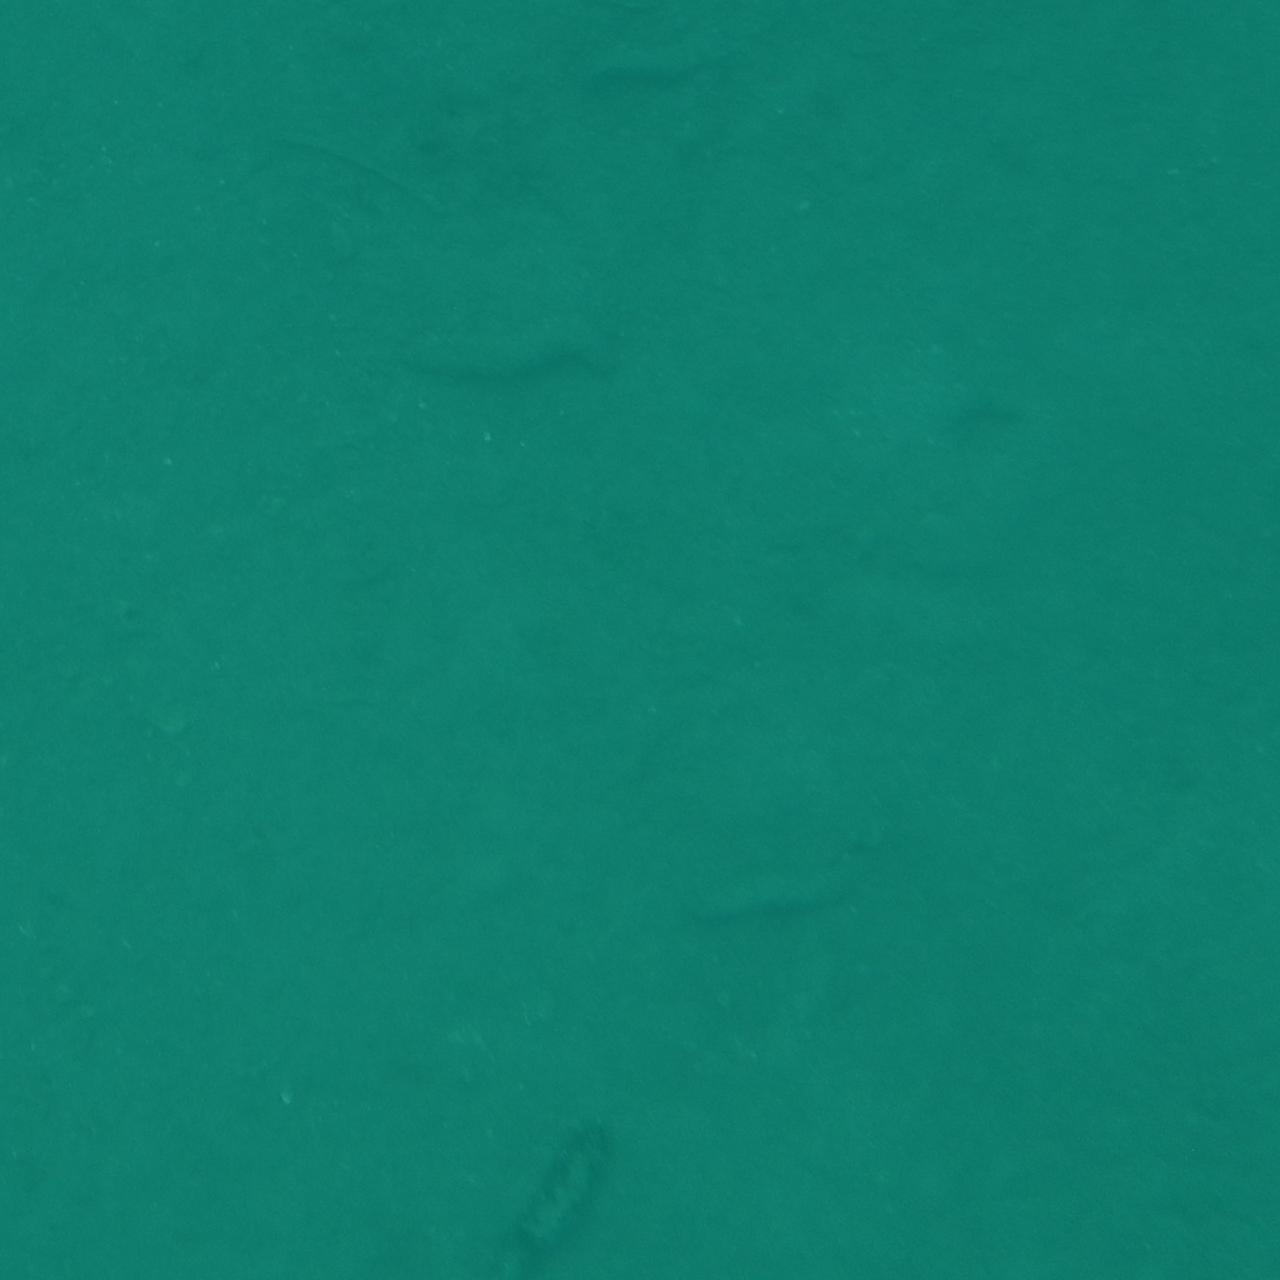Holothuria tubulosa: (404, 298, 640, 420), (484, 1104, 626, 1280), (559, 0, 738, 121), (661, 838, 855, 930)
